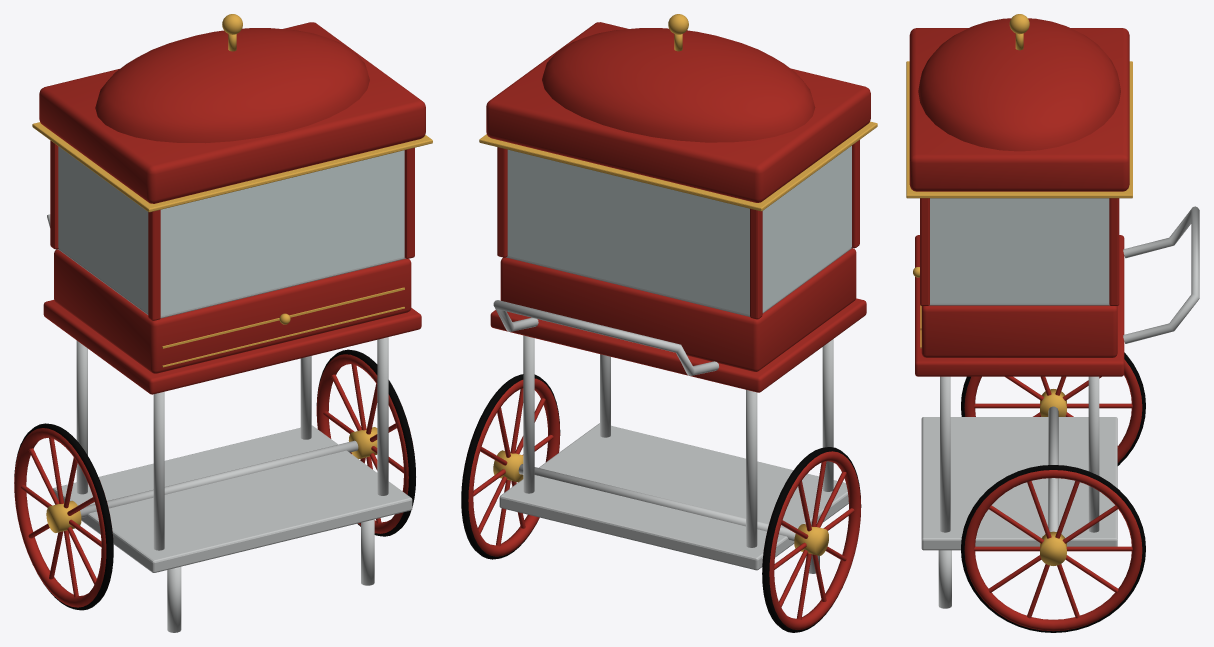
Rendered from popcorn-cart.glb.
3 renders of one model, left to right at view 1: azimuth 30°, elevation 25°; view 2: azimuth 150°, elevation 25°; view 3: azimuth 270°, elevation 25°, orthographic. The views are drawn at different scales.
Visible parts, largest first — view 1: Würfel.013, Würfel, Kugel.001, Würfel.014, Würfel.002, Würfel.008, Würfel.001, Torus, Würfel.015, Zylinder.006, Torus.002, Zylinder.001 (+15 smaller); view 2: Würfel.012, Würfel, Kugel.001, Würfel.014, Würfel.002, Würfel.008, Würfel.001, Torus, Würfel.015, Torus.002, tube.020, Zylinder.006 (+12 smaller); view 3: Kugel.001, Würfel.011, Würfel, Würfel.014, Würfel.002, Würfel.001, Torus.002, Würfel.015, tube.020, Torus.003, Zylinder.003, Zylinder.002 (+9 smaller).
Part boxes in pixels (left/top/right/bottom): Würfel.013: left=160, top=150, right=404, bottom=316; Würfel: left=53, top=425, right=412, bottom=572; Kugel.001: left=95, top=28, right=369, bottom=143; Würfel.014: left=39, top=22, right=425, bottom=203; Würfel.002: left=54, top=249, right=411, bottom=373; Würfel.008: left=58, top=146, right=148, bottom=313; Würfel.001: left=43, top=300, right=421, bottom=394; Torus: left=14, top=428, right=107, bottom=607; Würfel.015: left=32, top=122, right=432, bottom=212; Zylinder.006: left=80, top=440, right=358, bottom=517; Torus.002: left=316, top=354, right=412, bottom=533; Zylinder.001: left=153, top=391, right=164, bottom=550; Würfel.012: left=507, top=149, right=749, bottom=314; Würfel: left=499, top=423, right=848, bottom=570; Kugel.001: left=542, top=28, right=815, bottom=142; Würfel.014: left=486, top=22, right=870, bottom=202; Würfel.002: left=500, top=248, right=856, bottom=371; Würfel.008: left=762, top=146, right=851, bottom=311; Würfel.001: left=490, top=298, right=866, bottom=392; Torus: left=763, top=451, right=860, bottom=629; Würfel.015: left=479, top=121, right=877, bottom=211; Torus.002: left=462, top=378, right=560, bottom=556; tube.020: left=493, top=300, right=718, bottom=375; Zylinder.006: left=518, top=464, right=795, bottom=540; Kugel.001: left=918, top=18, right=1120, bottom=151; Würfel.011: left=930, top=198, right=1109, bottom=303; Würfel: left=921, top=417, right=1117, bottom=550; Würfel.014: left=909, top=28, right=1129, bottom=191; Würfel.002: left=921, top=305, right=1117, bottom=357; Würfel.001: left=915, top=235, right=1124, bottom=376; Torus.002: left=964, top=470, right=1142, bottom=631; Würfel.015: left=906, top=61, right=1132, bottom=198; tube.020: left=1123, top=206, right=1199, bottom=343; Torus.003: left=961, top=465, right=1145, bottom=632; Zylinder.003: left=940, top=376, right=950, bottom=532; Zylinder.002: left=1088, top=376, right=1099, bottom=532.
Size of the model in its own units: 1.07 by 1.78 by 0.8673.
